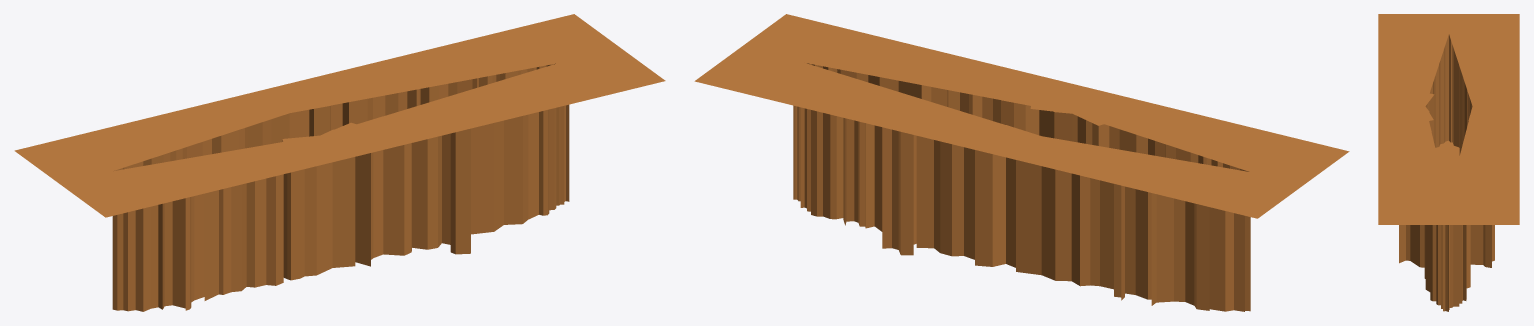
The model's file is FailleDesert.fbx.
The picture shows the model from 3 angles, left to right: view 1: azimuth 30°, elevation 25°; view 2: azimuth 150°, elevation 25°; view 3: azimuth 270°, elevation 25°; orthographic projection. The views are drawn at different scales.
Parts seen in each view (by area): view 1: Plane; view 2: Plane; view 3: Plane.
Part boxes in pixels (left/top/right/bottom): Plane: left=14, top=14, right=665, bottom=311; Plane: left=694, top=14, right=1349, bottom=311; Plane: left=1378, top=14, right=1519, bottom=311.
Bounding box in the file's own units: 6000 × 21202 × 5000.
